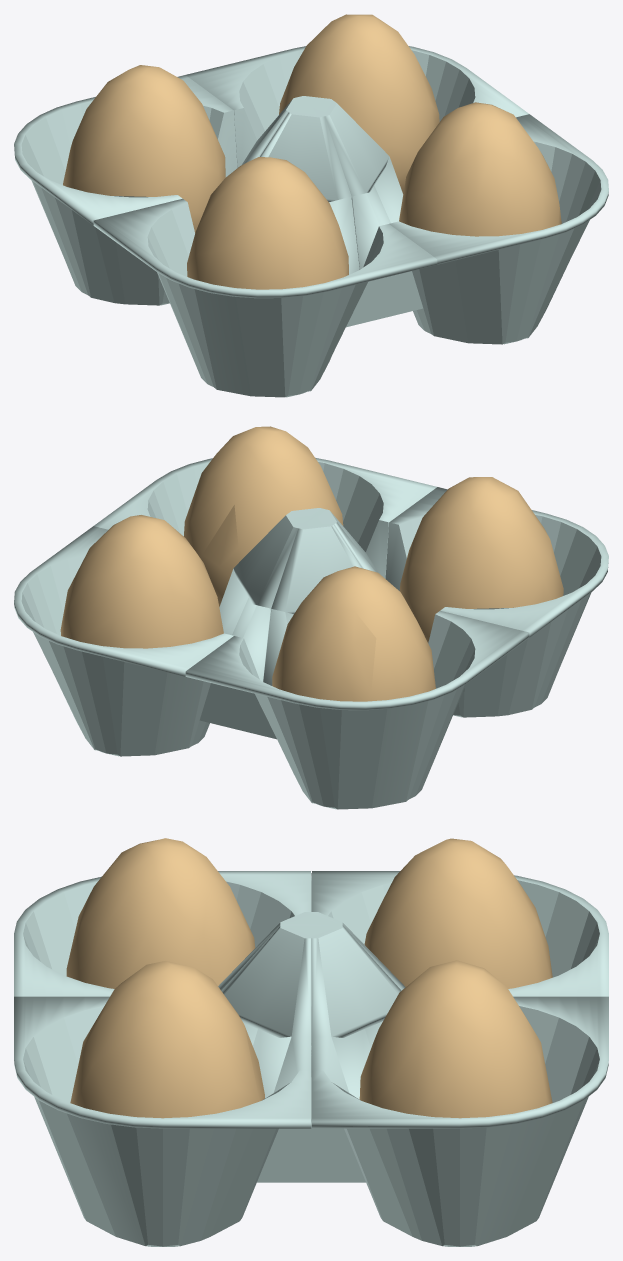
The model's file is Eggs.fbx.
3 renders of one model, top to bottom at view 1: azimuth 30°, elevation 25°; view 2: azimuth 150°, elevation 25°; view 3: azimuth 270°, elevation 25°, orthographic. The views are drawn at different scales.
Visible parts, largest first — view 1: Eggs; view 2: Eggs; view 3: Eggs.
Boxes of the visible parts, x1,y1,x2,y2 form: Eggs: (14,14,608,397); Eggs: (14,426,608,809); Eggs: (14,838,608,1246).
Bounding box in the file's own units: 61.25 × 28.61 × 61.34.
